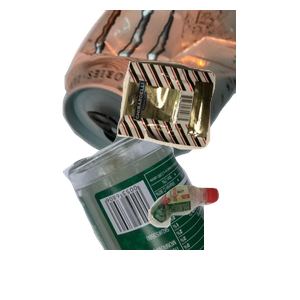glass: (60, 120, 300, 300)
metal: (60, 10, 300, 175)
plastic: (146, 182, 300, 300)
trash: (115, 58, 300, 200)
